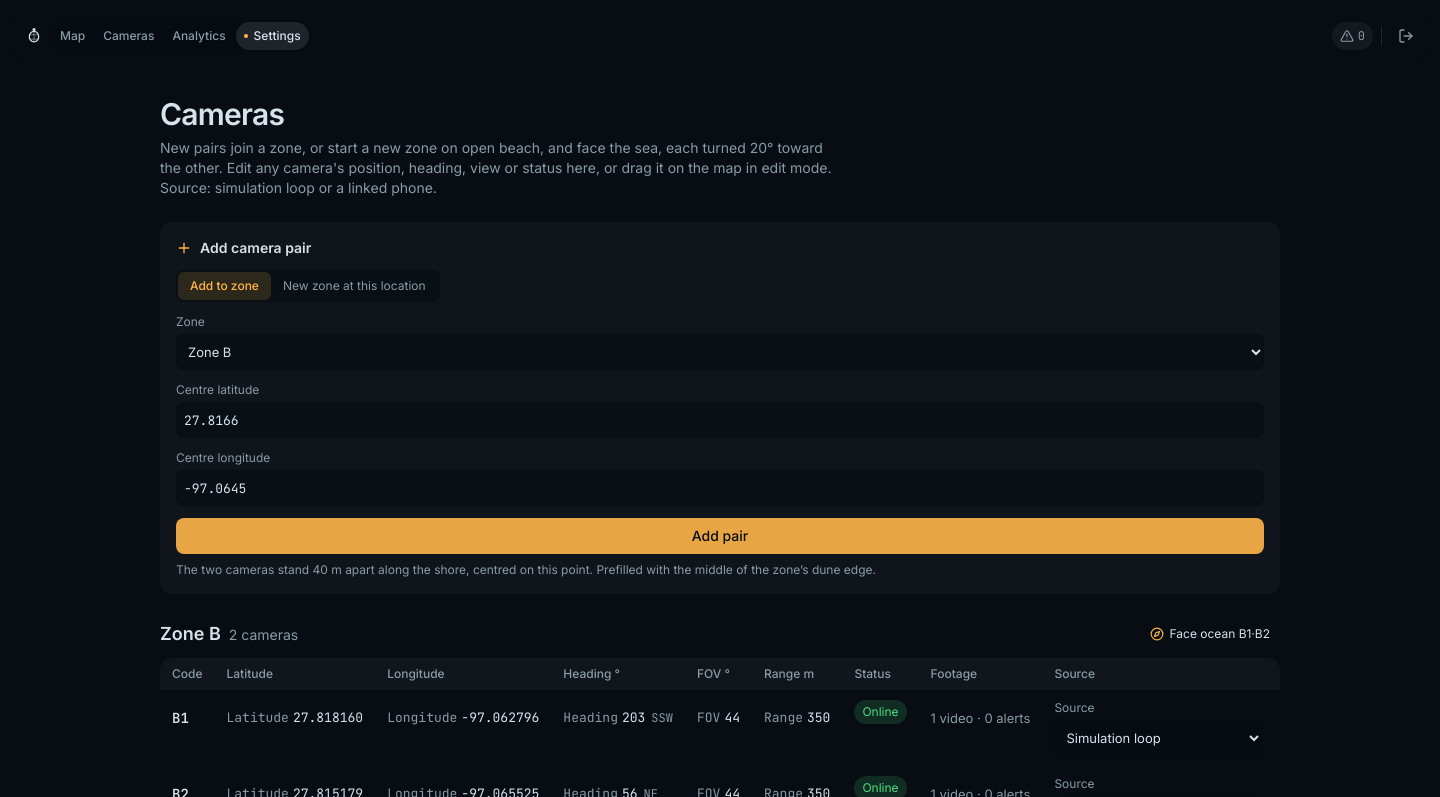
it: CamerasScreen › adds a pair to the chosen zone at the prefilled point
The image size is (1440, 797).
Select "Zone D" in the dropdown labelled "Zone" at (720, 352), box [176,334,1264,370]
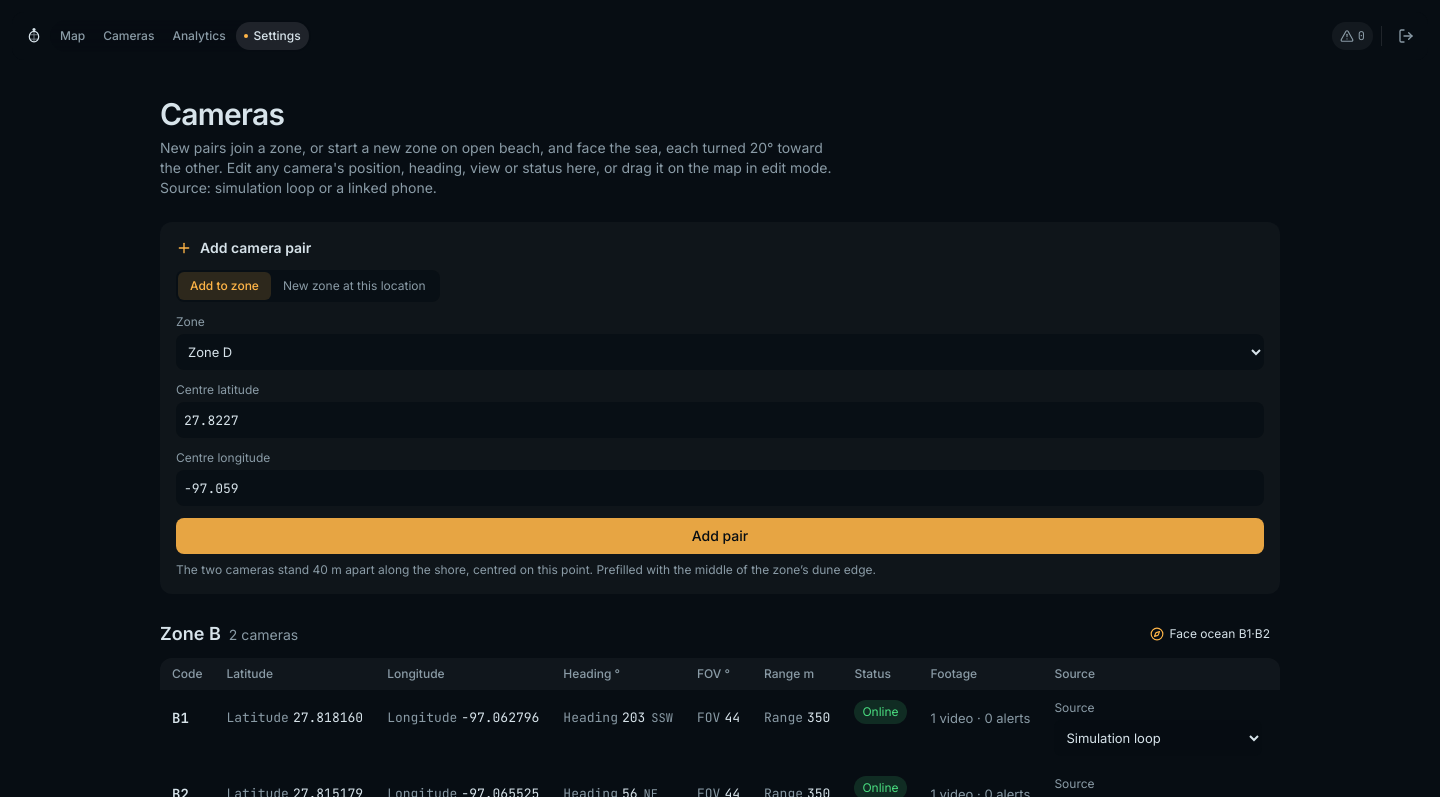
Check: the field labelled "Centre latitude" holds "27.8227", box [176,402,1264,438]
Click the button "Add pair" at (720, 536), box [176,518,1264,554]
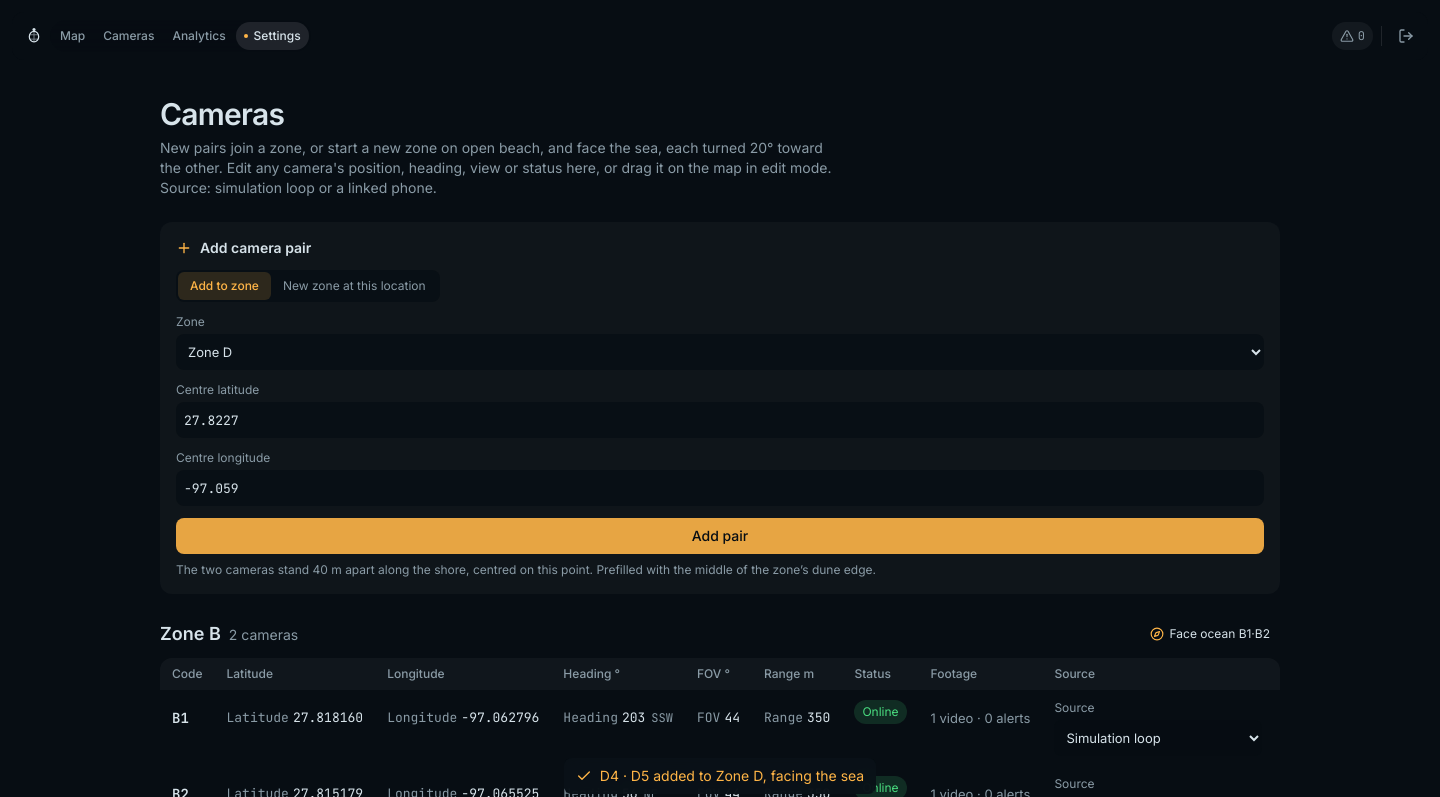
Check: the text "D4 · D5 added to Zone D, facing the sea" is shown, box [564,758,876,794]
